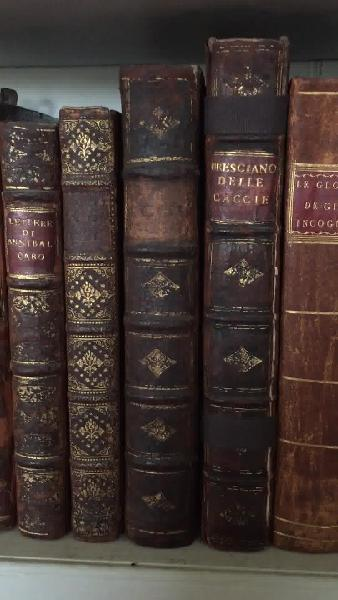Aa6-29: (1, 114, 72, 550)
Aa6-30: (60, 95, 124, 550)
Aa6-31: (115, 67, 196, 558)
Aa6-32: (201, 26, 275, 548)
Aa6-33: (272, 71, 338, 563)
